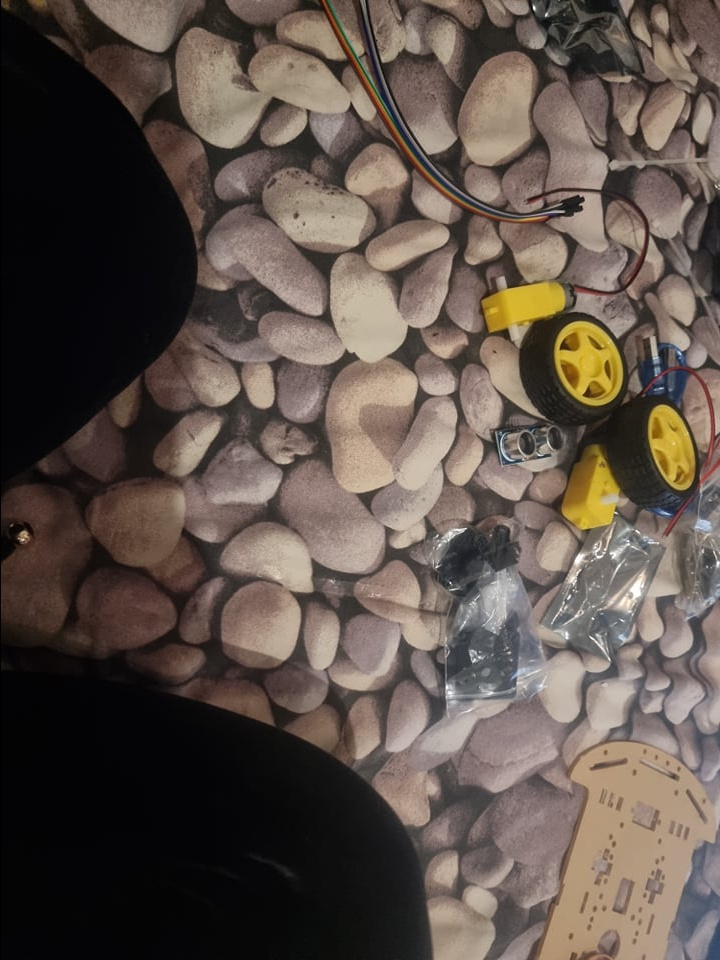SENSOR: (492, 422, 562, 465)
